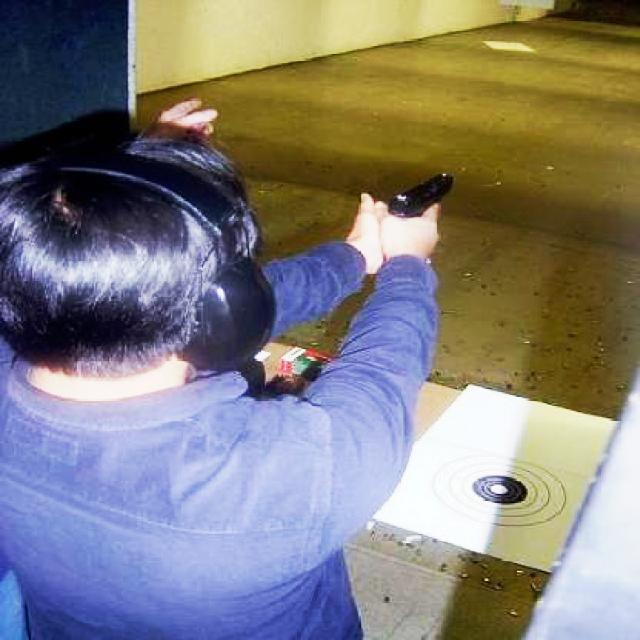Gun: (380, 167, 461, 225)
